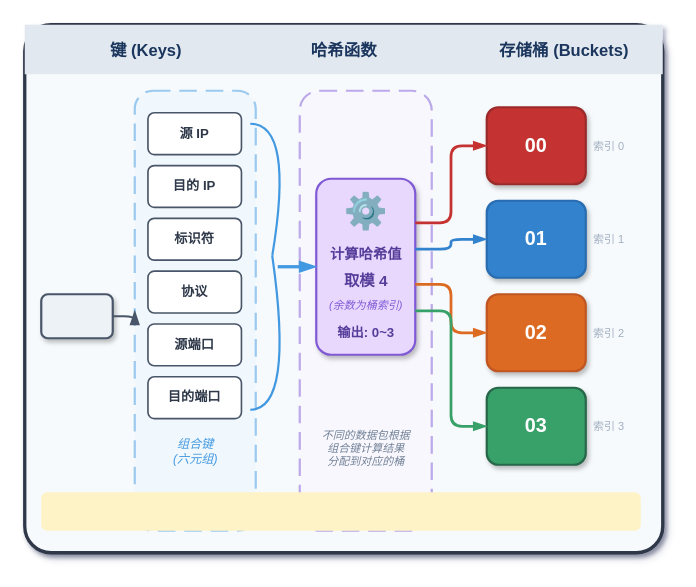
Some shapes in this 696 by 587 pixel diagram are drawn without their labels. Each missing label, with the centre of its shape:
节点: the point at 77,317
说明：节点的每个数据包使用六元组作为组合键，经过哈希计算和取模运算后，映射到对应的存储桶中: the point at 340,511
